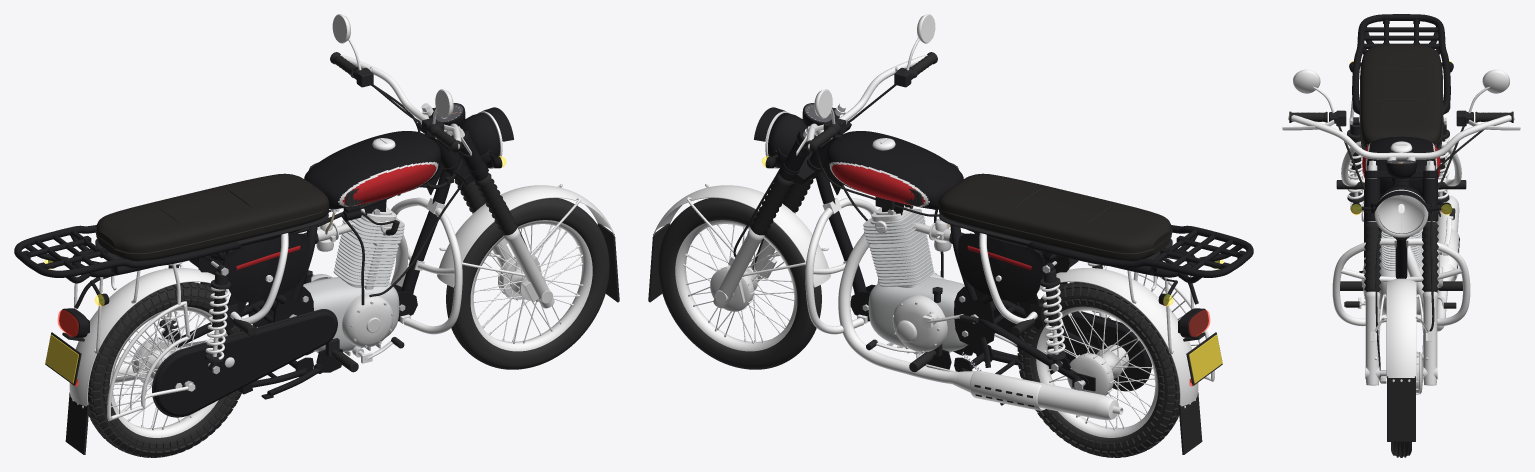
File: bike_boda_boda.glb
3 renders of one model, left to right at view 1: azimuth 30°, elevation 25°; view 2: azimuth 150°, elevation 25°; view 3: azimuth 270°, elevation 25°, orthographic. The views are drawn at different scales.
Visible parts, largest first — view 1: frame_body__seat, transmission__chain_case, wheels__front_wheel__tyre, wheels__rear_wheel__tyre, frame_body__fuel_tank, frame_body__frame__tubes, frame_body__carrier, frame_body__side_panels__left, frame_body__rear_mudguard, frame_body__front_mudguard, wheels__front_wheel__rim, powertrain__engine__crankcase (+27 smaller); view 2: frame_body__seat, wheels__front_wheel__tyre, wheels__rear_wheel__tyre, frame_body__fuel_tank, frame_body__frame__tubes, frame_body__carrier, frame_body__side_panels__right, frame_body__rear_mudguard, powertrain__engine__crankcase, transmission__chain_case, frame_body__front_mudguard, wheels__front_wheel__rim (+28 smaller); view 3: frame_body__seat, frame_body__carrier, frame_body__front_mudguard, frame_body__crash_guard_front, frame_body__front_mudguard__mudflap, chassis__handlebar__bar, frame_body__fuel_tank, electrical__headlight__reflector, electrical__headlight__lens, chassis__front_fork__right_slider, chassis__front_fork__left_slider, chassis__handlebar__mirrors (+28 smaller).
Part boxes in pixels (x1,y1,x2,y2): frame_body__seat: (96, 173, 329, 260); transmission__chain_case: (152, 309, 337, 417); wheels__front_wheel__tyre: (446, 198, 609, 369); wheels__rear_wheel__tyre: (88, 282, 242, 457); frame_body__fuel_tank: (304, 131, 440, 209); frame_body__frame__tubes: (71, 162, 450, 372); frame_body__carrier: (14, 225, 241, 283); frame_body__side_panels__left: (223, 233, 309, 302); frame_body__rear_mudguard: (69, 268, 228, 406); frame_body__front_mudguard: (437, 185, 614, 287); wheels__front_wheel__rim: (470, 220, 592, 351); powertrain__engine__crankcase: (303, 277, 399, 357); frame_body__seat: (938, 173, 1171, 260); wheels__front_wheel__tyre: (658, 198, 821, 369); wheels__rear_wheel__tyre: (1017, 282, 1179, 457); frame_body__fuel_tank: (827, 131, 963, 209); frame_body__frame__tubes: (816, 162, 1196, 370); frame_body__carrier: (1026, 225, 1253, 283); frame_body__side_panels__right: (958, 233, 1044, 302); frame_body__rear_mudguard: (1039, 268, 1198, 406); powertrain__engine__crankcase: (868, 277, 967, 355); transmission__chain_case: (1003, 299, 1151, 391); frame_body__front_mudguard: (653, 185, 830, 287); wheels__front_wheel__rim: (675, 220, 797, 351); frame_body__seat: (1360, 44, 1442, 147); frame_body__carrier: (1352, 14, 1450, 114); frame_body__front_mudguard: (1386, 278, 1416, 377); frame_body__crash_guard_front: (1332, 238, 1470, 326); frame_body__front_mudguard__mudflap: (1387, 376, 1415, 441); chassis__handlebar__bar: (1288, 115, 1514, 159); frame_body__fuel_tank: (1362, 136, 1440, 196); electrical__headlight__reflector: (1378, 195, 1424, 233); electrical__headlight__lens: (1379, 195, 1423, 233); chassis__front_fork__right_slider: (1422, 291, 1437, 385); chassis__front_fork__left_slider: (1365, 291, 1380, 385); chassis__handlebar__mirrors: (1293, 69, 1509, 93).
Size of the model in its own units: 208 by 117 by 79.18.
